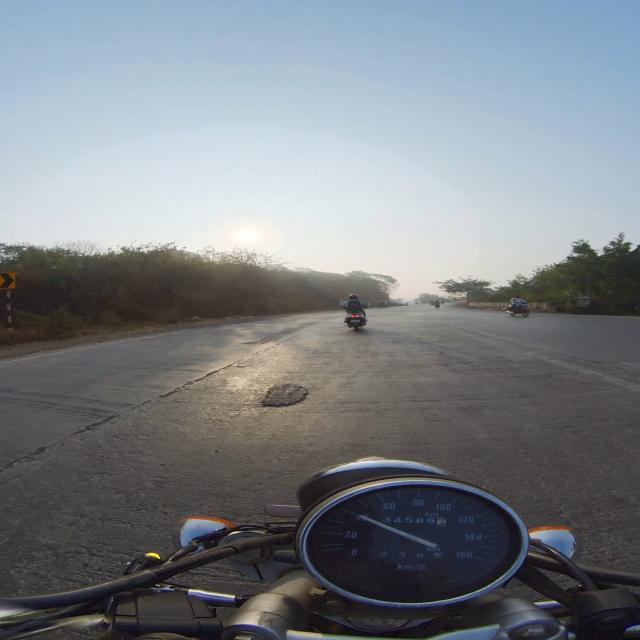motorcycle: (0, 458, 639, 639), (344, 311, 367, 330), (508, 304, 529, 317)
